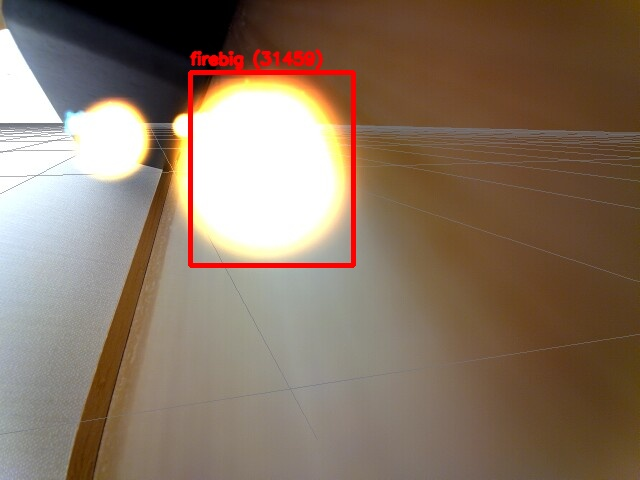firebig: (190, 72, 353, 265)
